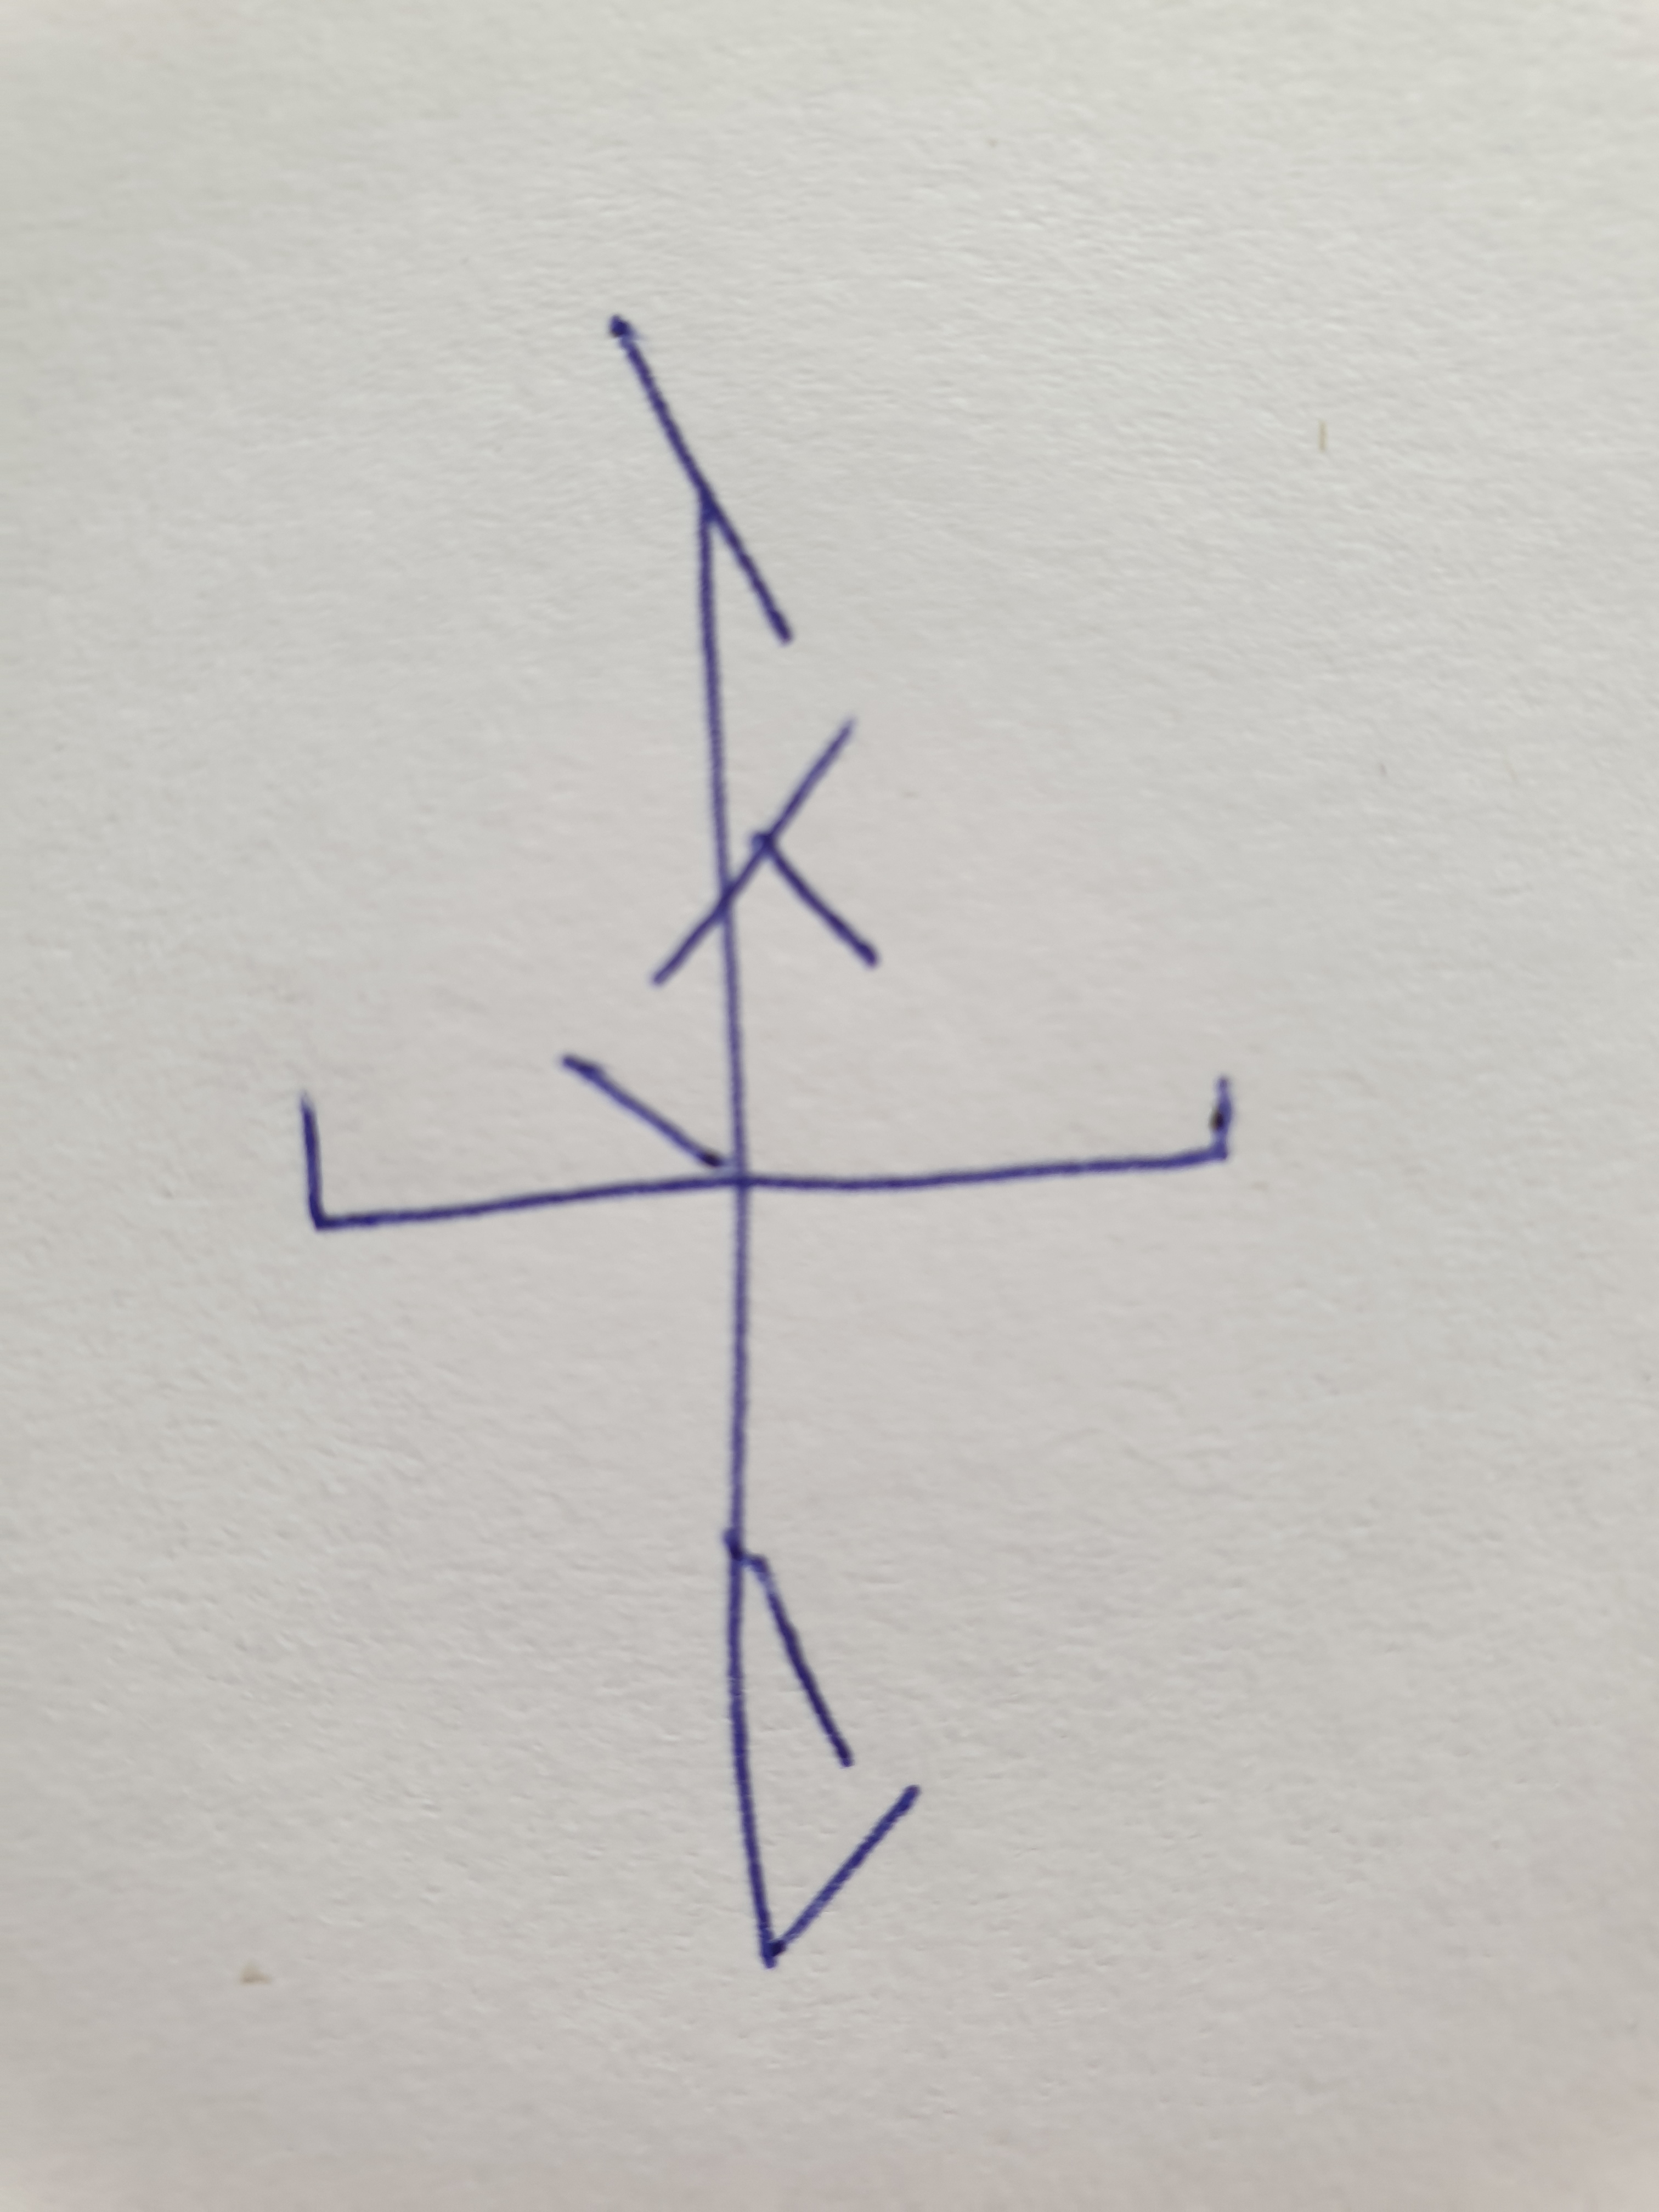Bar: (558, 310, 924, 1968)
Barcode: (296, 312, 1237, 1968)
End: (753, 1073, 1234, 1197)
Start: (295, 1083, 580, 1233)
